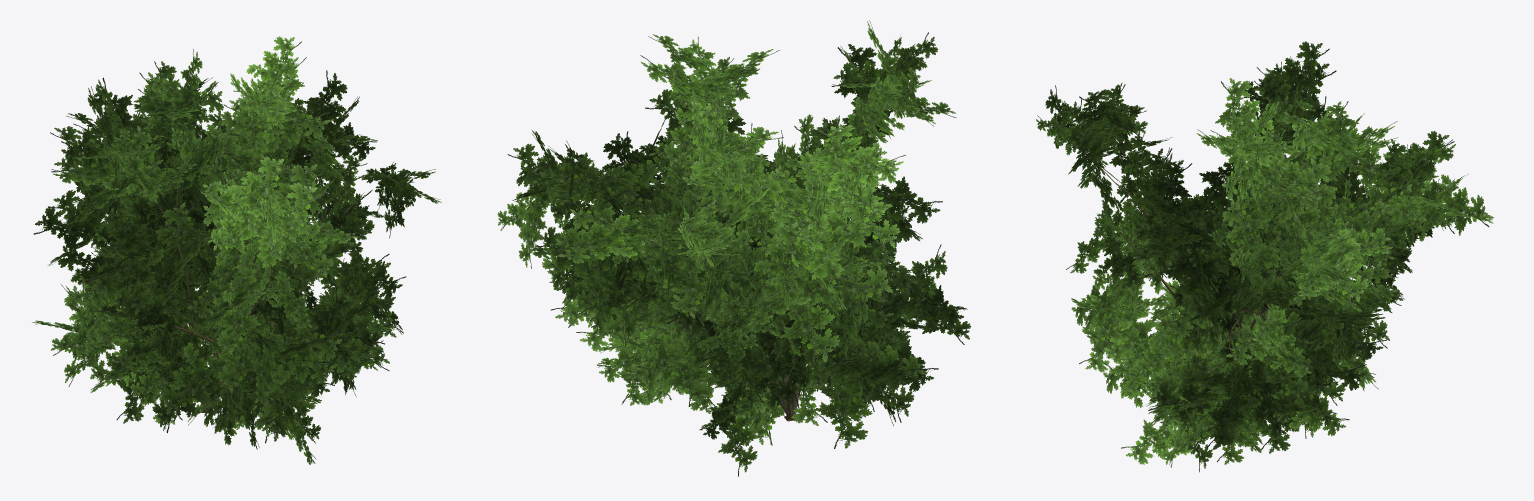
Rendered from bush_lod1.glb.
3 renders of one model, left to right at view 1: azimuth 30°, elevation 25°; view 2: azimuth 150°, elevation 25°; view 3: azimuth 270°, elevation 25°, orthographic. The views are drawn at different scales.
Visible parts, largest first — view 1: leaves, bark; view 2: leaves; view 3: leaves, bark.
Boxes of the visible parts, left/top/right/bottom form: leaves: left=32, top=36, right=441, bottom=464; bark: left=121, top=156, right=364, bottom=412; leaves: left=497, top=20, right=971, bottom=476; leaves: left=1036, top=41, right=1493, bottom=472; bark: left=1102, top=162, right=1389, bottom=367.
Size of the model in its own units: 2.63 by 2.57 by 2.74.
Materials: 2 (2 with a texture image).
